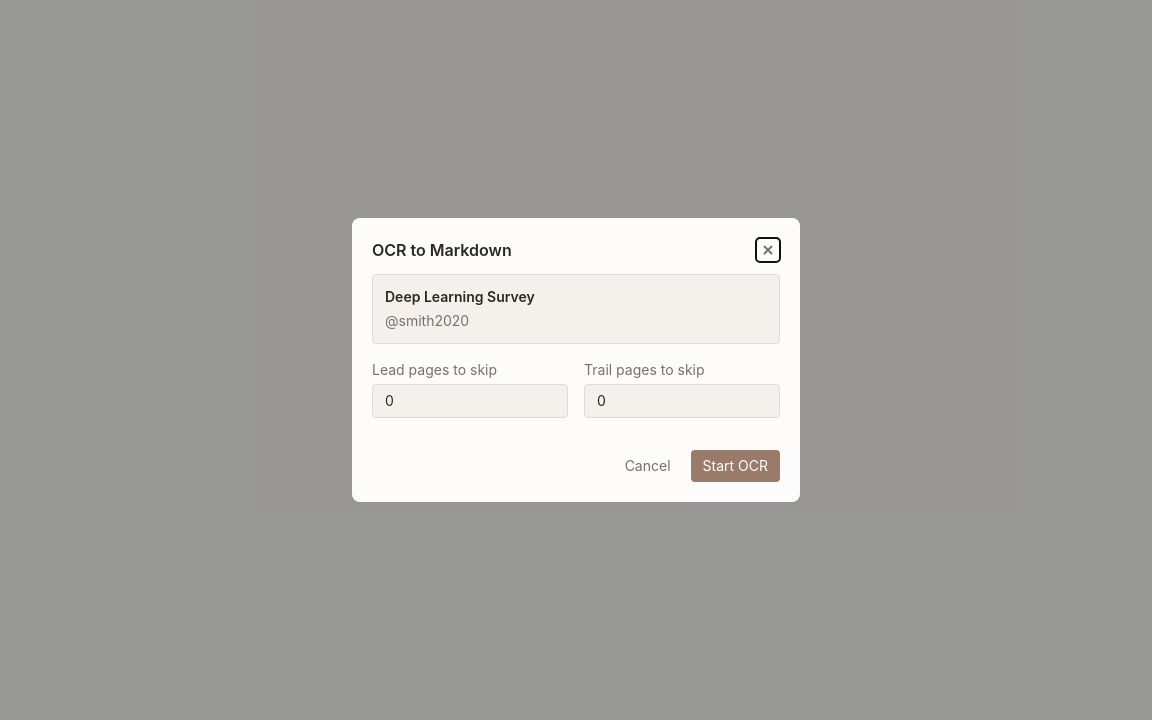
Test: OcrDialog › shows error inline on failure
Click the button with test id "ocr-start-btn": {"x": 735, "y": 466} [690,450,780,482]
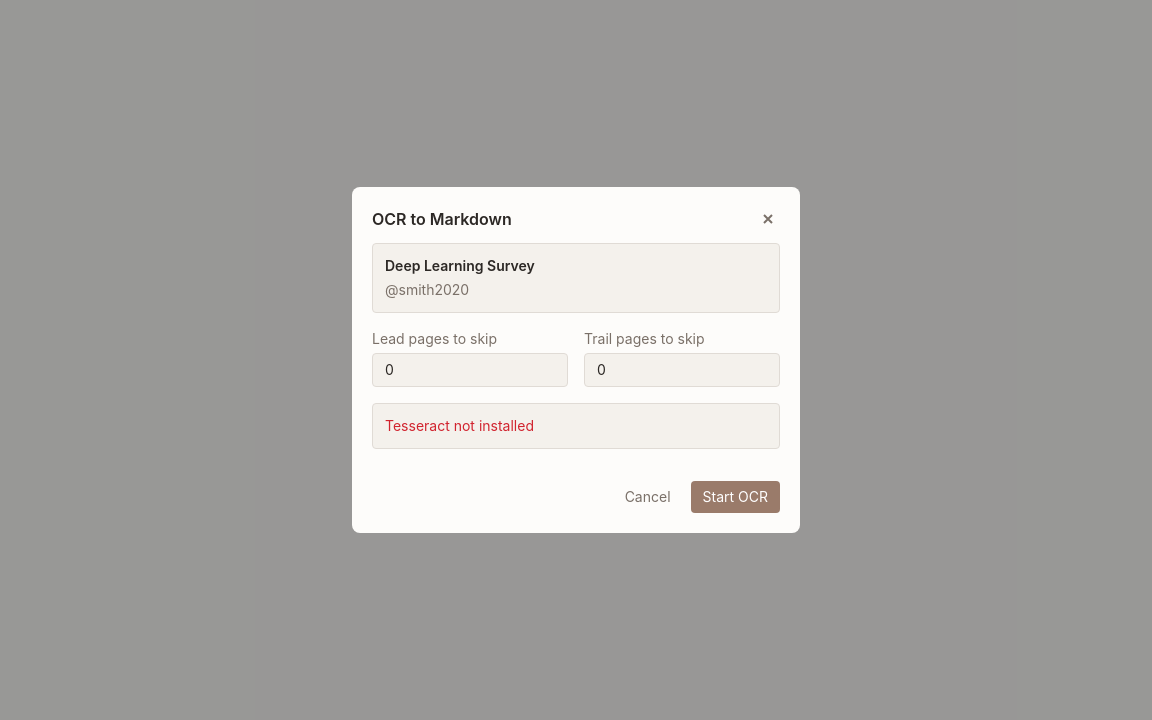
Expected: the button with test id "ocr-start-btn" is enabled, [690,481,780,513]
Expected: the message with test id "ocr-error" reads "Tesseract not installed", [385,417,534,434]
